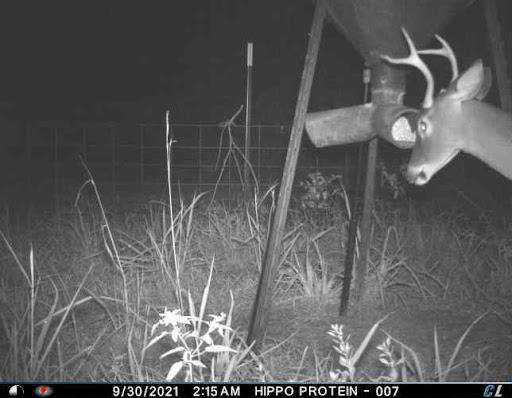Deer: (379, 22, 512, 197)
